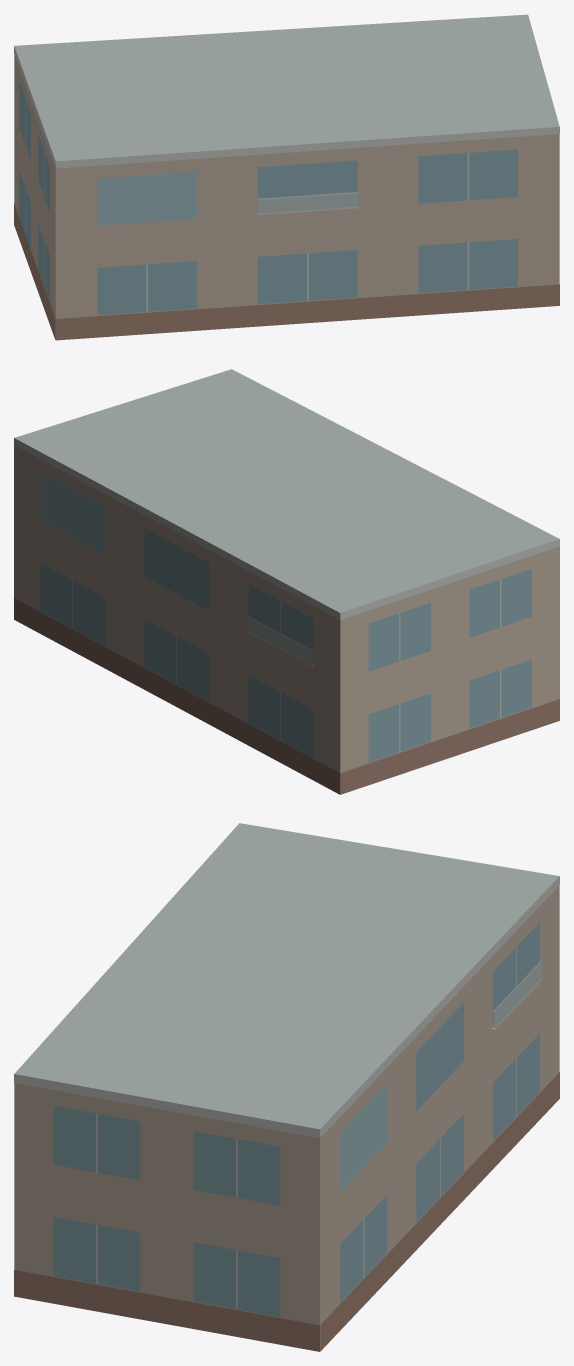
File: survey-upis-32877237.glb
3 renders of one model, top to bottom at view 1: azimuth 30°, elevation 25°; view 2: azimuth 150°, elevation 25°; view 3: azimuth 270°, elevation 25°, orthographic. The views are drawn at different scales.
Visible parts, largest first — view 1: survey-upis-32877237.tmp; view 2: survey-upis-32877237.tmp; view 3: survey-upis-32877237.tmp.
Part boxes in pixels (x1,y1,x2,y2): survey-upis-32877237.tmp: (14,14,559,340); survey-upis-32877237.tmp: (14,369,559,794); survey-upis-32877237.tmp: (14,823,559,1351).
Size of the model in its own units: 18.02 by 6.1 by 13.57.
